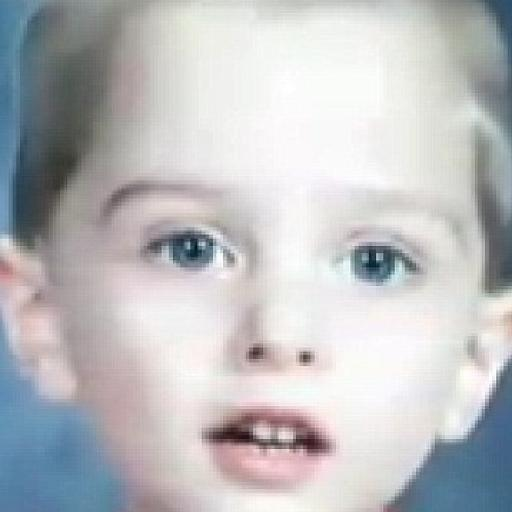Autism: (7, 14, 512, 494)
